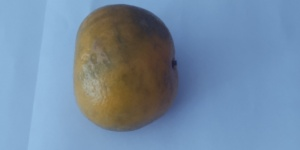BAD: (73, 2, 180, 132)
